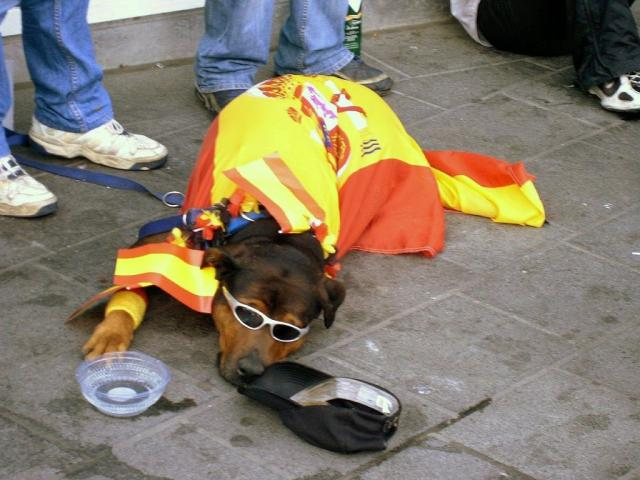Dog: (85, 70, 542, 386)
